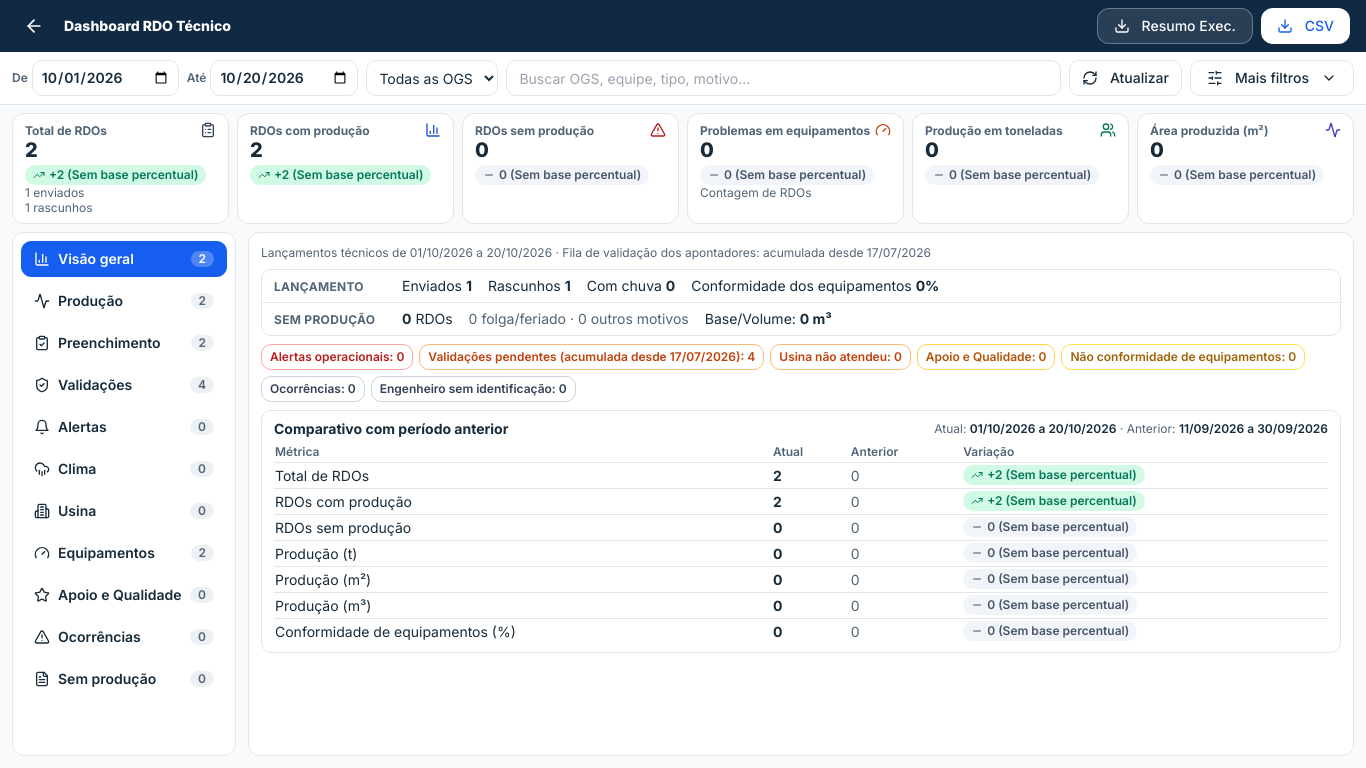
Scenario: Dashboard Técnico — fase 2 › troca explicitamente de acumulado para período sem contar setembro
Click the button "Validações 4": coordinates (124, 385) [21,367,227,403]
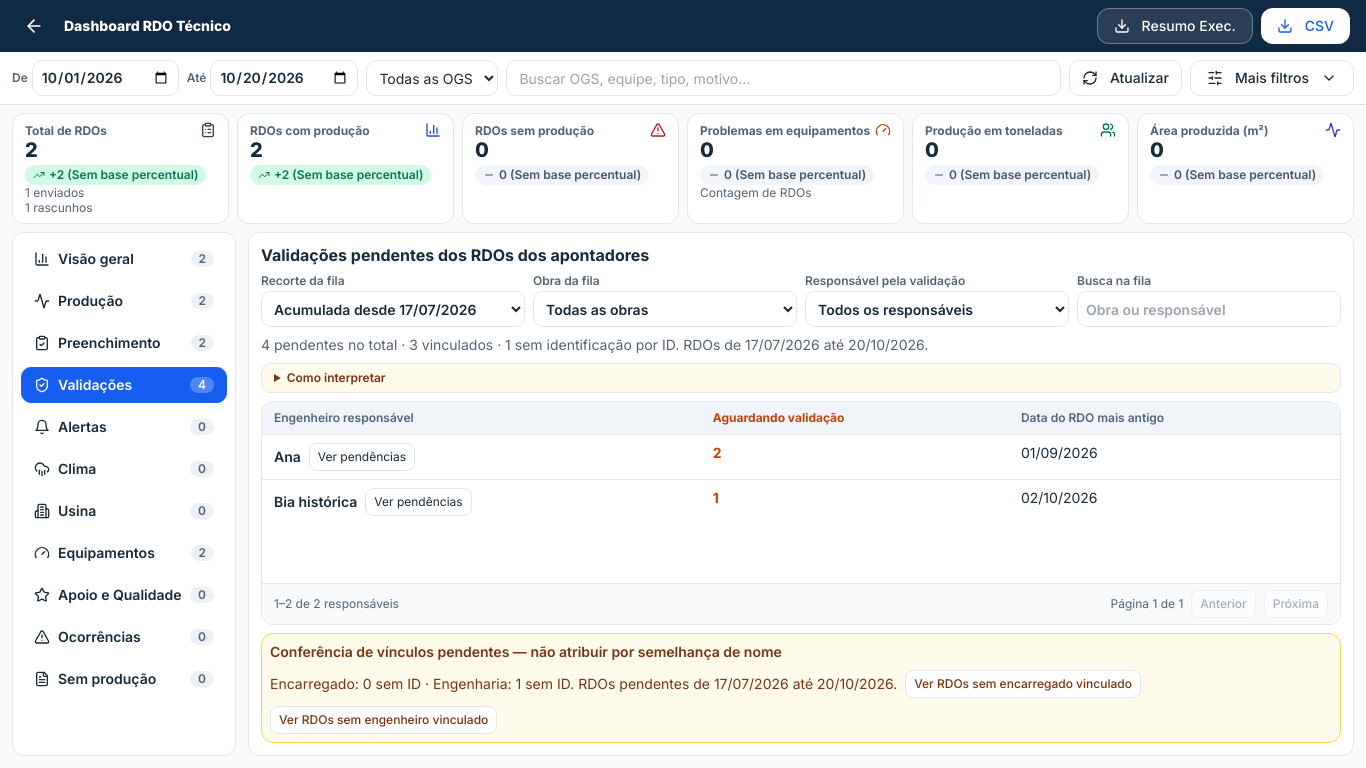
Select "Somente o período selecionado" in the dropdown labelled "Recorte da fila": coordinates (393, 309) [261,291,525,327]
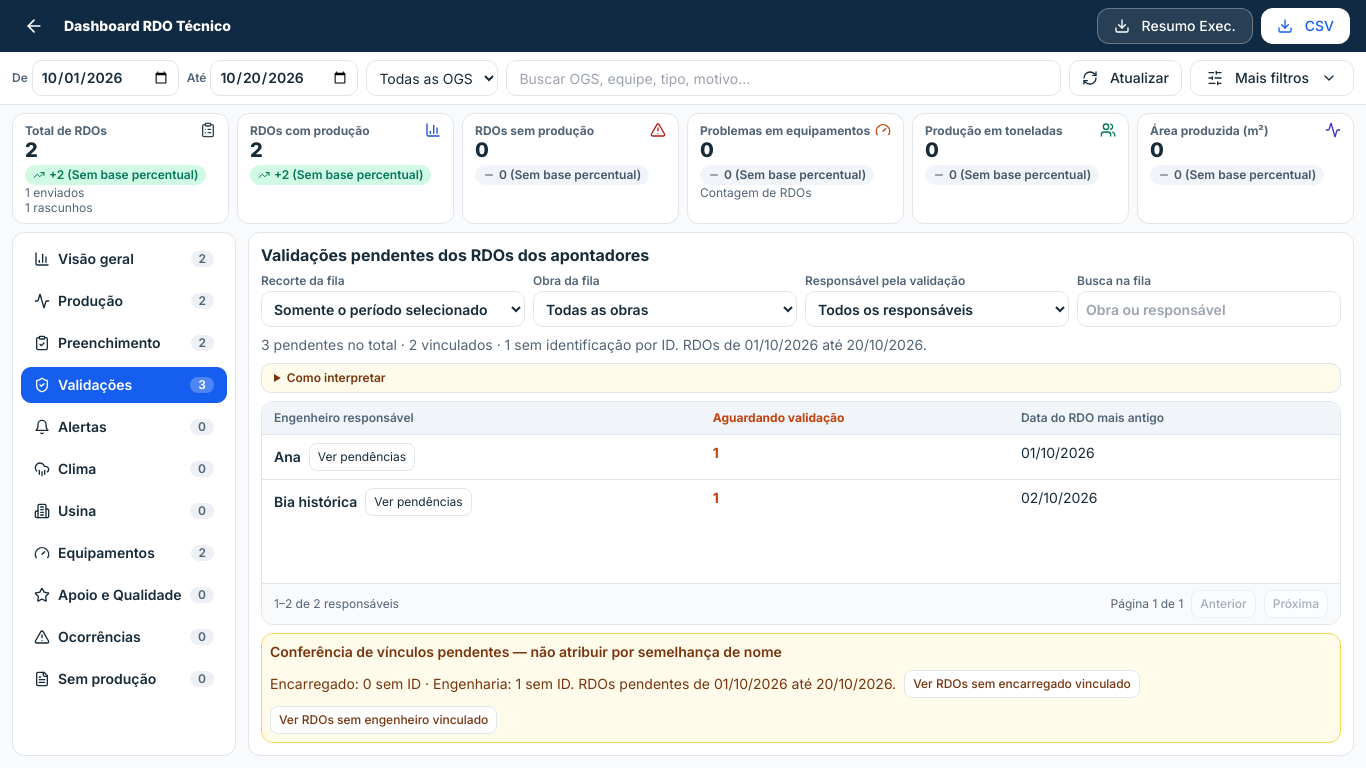
Check: the text with test id "total-fila-validacao" shows "3 pendentes no total · 2 vinculados · 1 sem identificação por ID", box [261,336,927,353]
Check: the text with test id "total-fila-validacao" shows "01/10/2026 até 20/10/2026", box [683,336,927,353]
